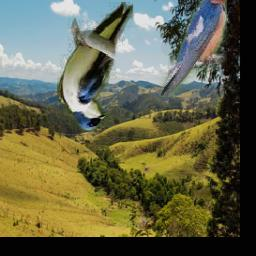Swallow: (58, 3, 134, 134), (159, 0, 227, 98)
